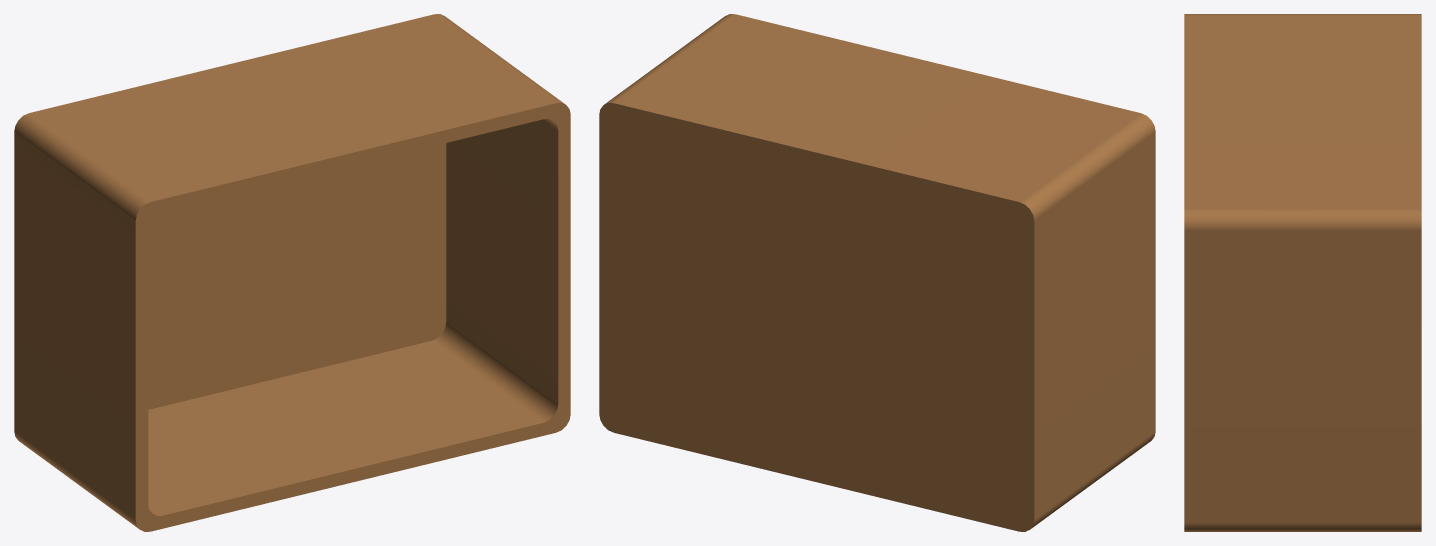
3 renders of one model, left to right at view 1: azimuth 30°, elevation 25°; view 2: azimuth 150°, elevation 25°; view 3: azimuth 270°, elevation 25°, orthographic. The views are drawn at different scales.
Parts seen in each view (by area): view 1: box1, box2; view 2: box1; view 3: box1.
Part boxes in pixels (box(x1,y1,x2,y2)): box1: box(14, 14, 570, 531); box2: box(148, 143, 446, 409); box1: box(599, 14, 1155, 531); box1: box(1184, 14, 1421, 531).
Size of the model in its own units: 52.48 by 37.99 by 25.4.
